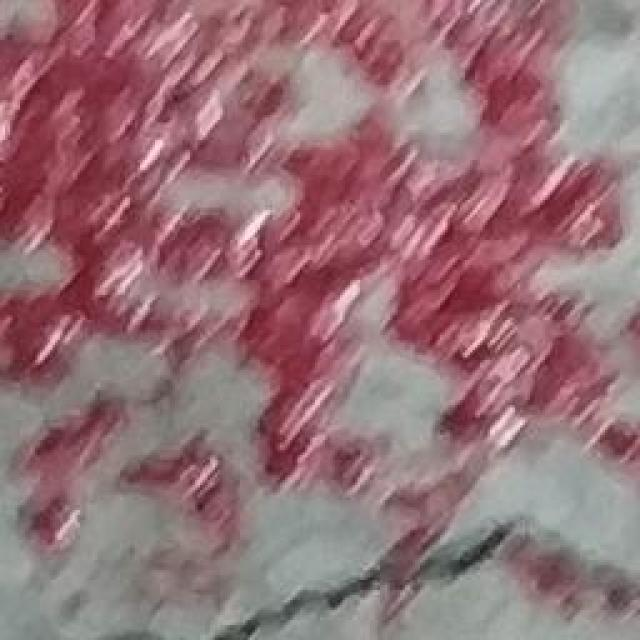Rippled: (0, 1, 640, 503)
Transverse: (153, 515, 640, 640)
